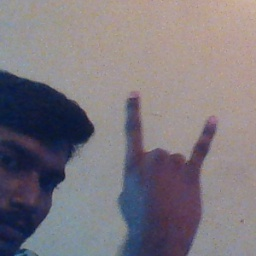V: (118, 85, 219, 241)
